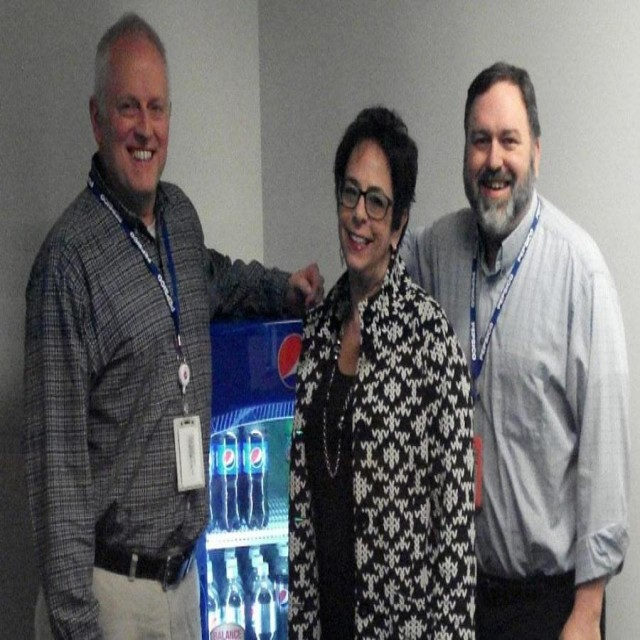pepsi: (222, 445, 237, 470), (252, 446, 265, 472)
